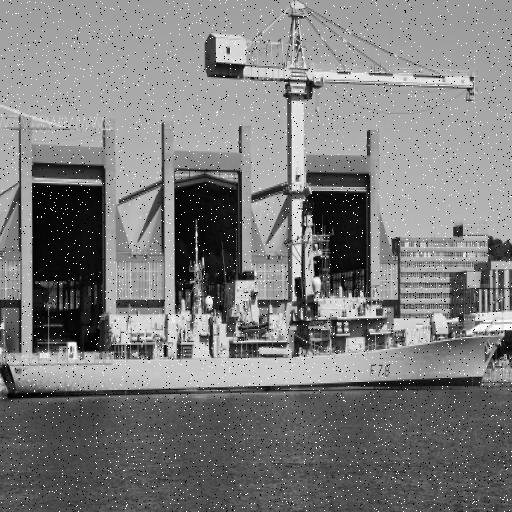Fragata: (1, 188, 512, 404)
